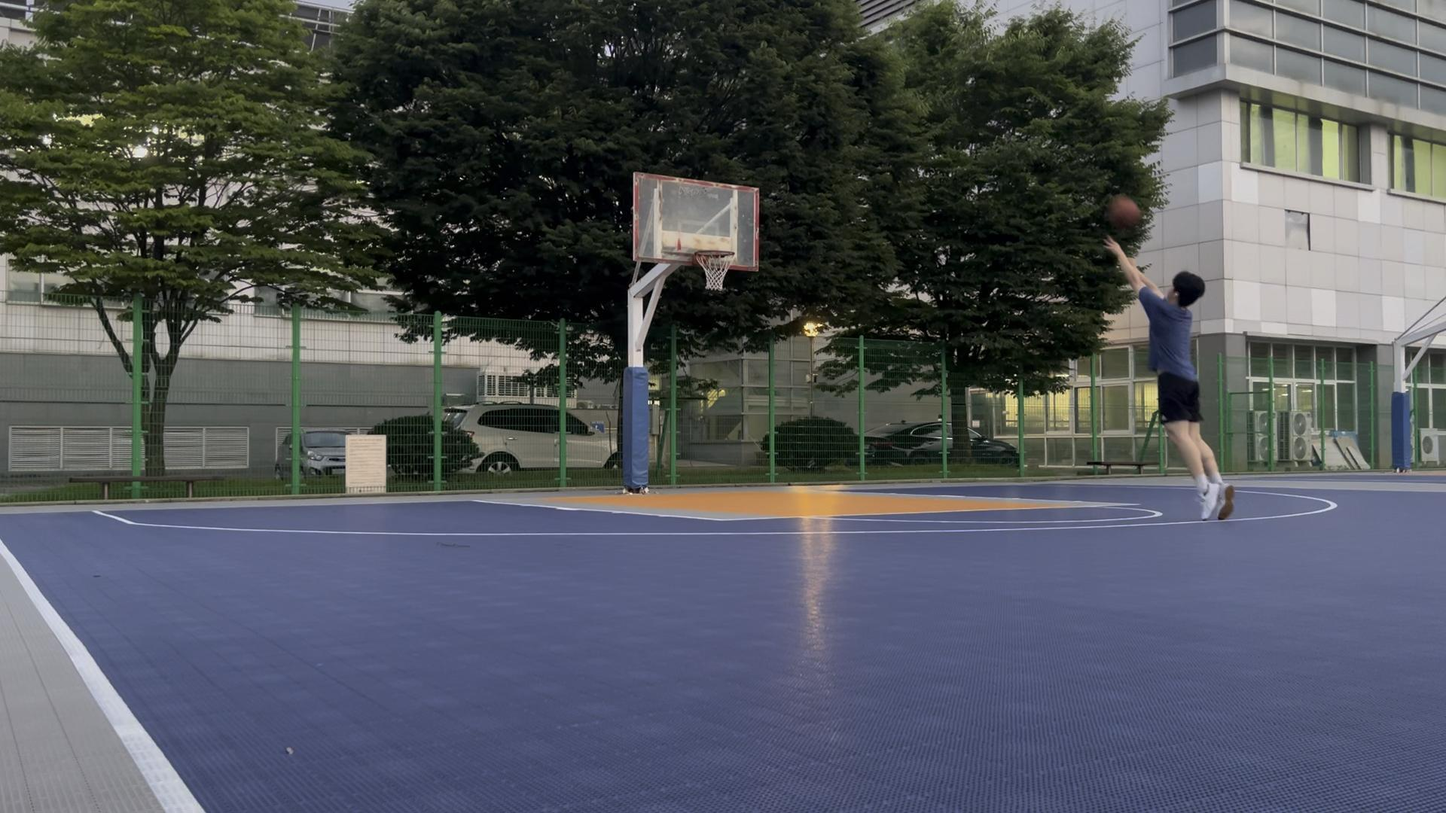ball: (1106, 195, 1143, 231)
human: (1102, 231, 1235, 523)
rim: (693, 249, 735, 292)
